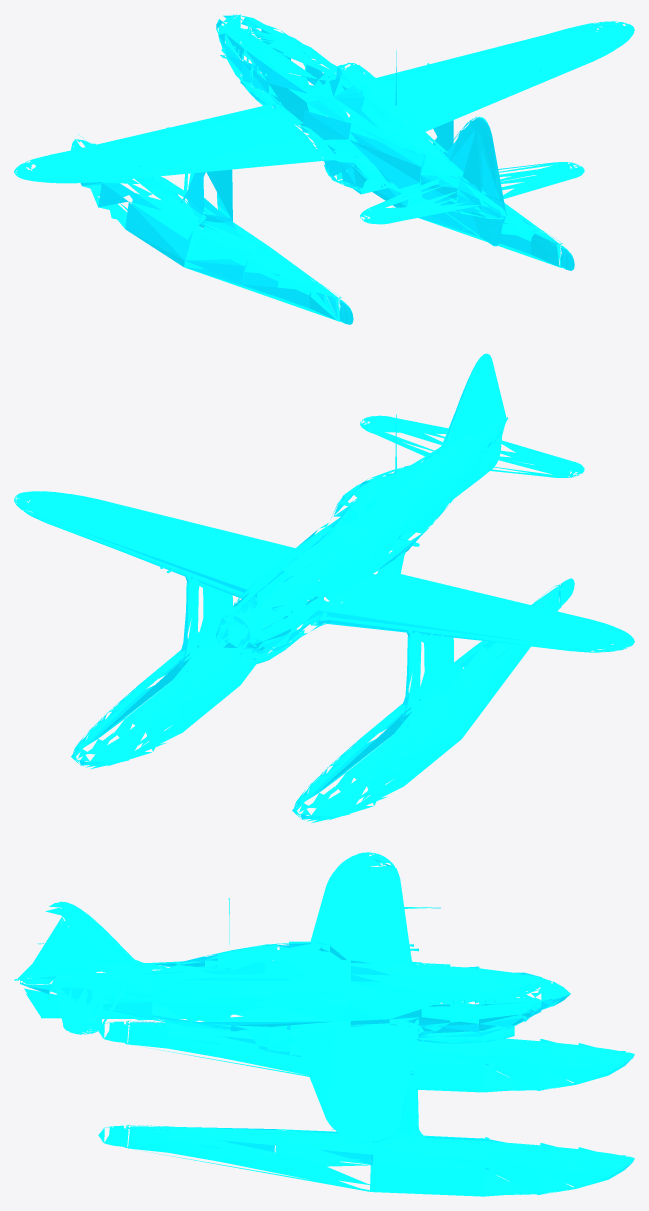
The model's file is PFAF503.glb.
3 renders of one model, top to bottom at view 1: azimuth 30°, elevation 25°; view 2: azimuth 150°, elevation 25°; view 3: azimuth 270°, elevation 25°, orthographic. The views are drawn at different scales.
Visible parts, largest first — view 1: misc; view 2: misc; view 3: misc.
Boxes of the visible parts, x1=… form: misc: x1=14, y1=14, x2=634, y2=324; misc: x1=14, y1=353, x2=634, y2=823; misc: x1=14, y1=852, x2=634, y2=1196.
Bounding box in the file's own units: 0.72 × 0.2843 × 0.652.
